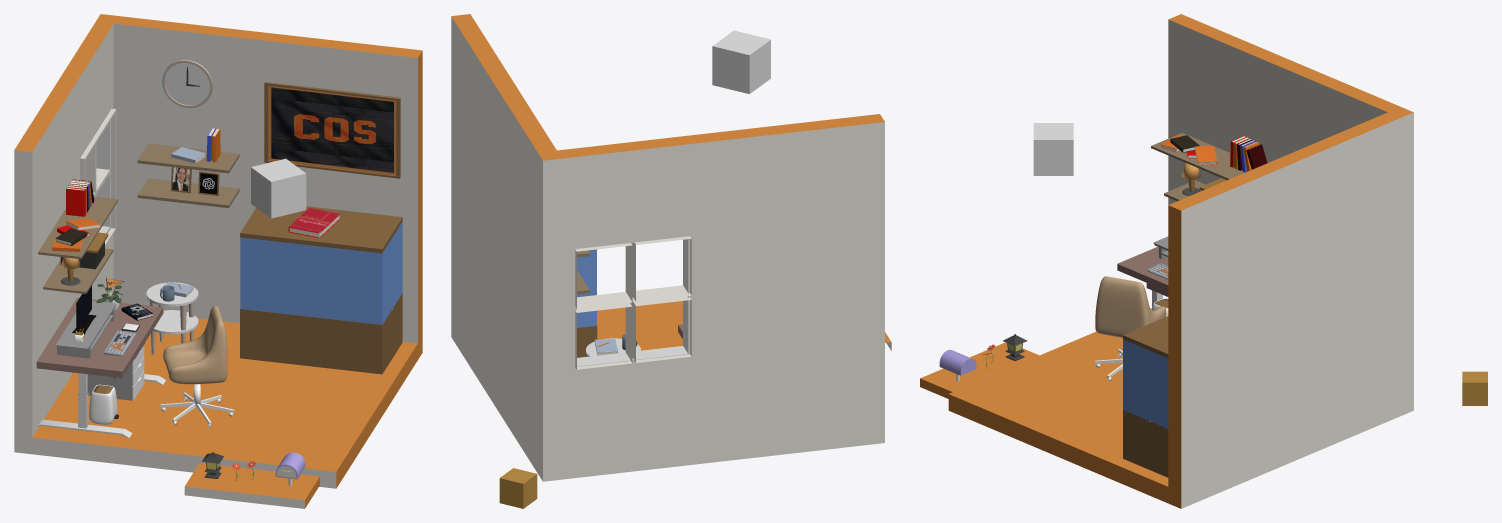
The model's file is house 8.1.glb.
3 renders of one model, left to right at view 1: azimuth 30°, elevation 25°; view 2: azimuth 150°, elevation 25°; view 3: azimuth 270°, elevation 25°, orthographic. The views are drawn at different scales.
Parts seen in each view (by area): view 1: Room, fish tank, cosFrame, Table Base, Shelf 1, Shelf 2, Garden Floor, Chair seat, bigPrinceton, Desk Content, Stool, Clock (+4 smaller); view 2: Room, bigPrinceton, fish tank, cubicle, Stool; view 3: Room, fish tank, Shelf 1, Chair seat, bigPrinceton, Garden Floor, Table Base, cubicle, Mailbox.
Part boxes in pixels (x1,y1,x2,y2): Room: (14, 14, 422, 488); fish tank: (240, 206, 402, 374); cosFrame: (264, 82, 400, 178); Table Base: (36, 297, 165, 437); Shelf 1: (38, 179, 117, 293); Shelf 2: (137, 128, 239, 208); Garden Floor: (184, 463, 319, 508); Chair seat: (163, 305, 227, 384); bigPrinceton: (251, 158, 306, 218); Desk Content: (55, 284, 139, 358); Stool: (146, 281, 198, 354); Clock: (162, 59, 212, 108); Room: (451, 14, 884, 481); bigPrinceton: (712, 30, 770, 93); fish tank: (577, 249, 597, 357); cubicle: (499, 468, 537, 508); Stool: (586, 334, 640, 356); Room: (948, 14, 1413, 508); fish tank: (1123, 316, 1168, 477); Shelf 1: (1151, 132, 1267, 201); Chair seat: (1095, 276, 1166, 337); bigPrinceton: (1033, 123, 1073, 175); Garden Floor: (920, 342, 1039, 398); Table Base: (1117, 246, 1168, 316); cubicle: (1462, 371, 1487, 405); Mailbox: (939, 349, 976, 381).
Bounding box in the file's own units: 23.29 × 16.47 × 28.41.
91 materials, 7 textured.
